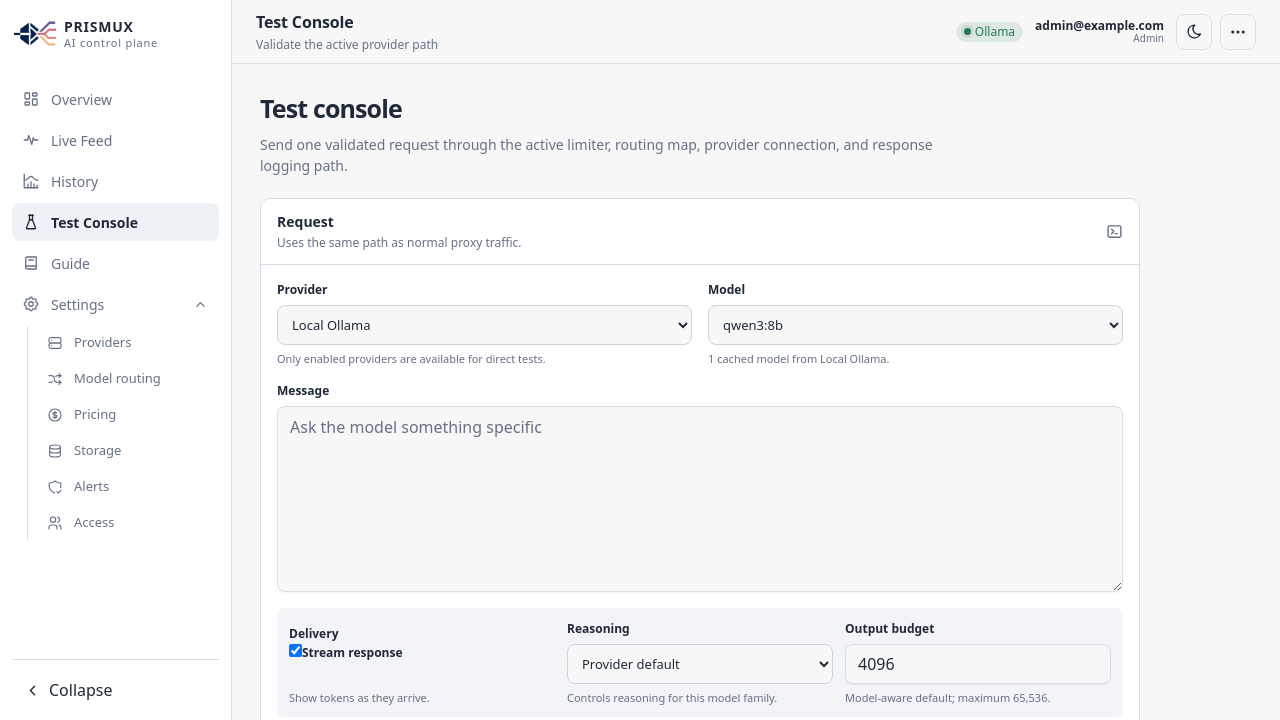
Test: dashboard application › shows provider reasoning when no final content was returned
Expected: the dropdown labelled "Provider" is shown, [277,304,692,344]
Type "Explain the result" into the text box labelled "Message" at (700, 499), box [277,406,1123,592]
(page scrolled)
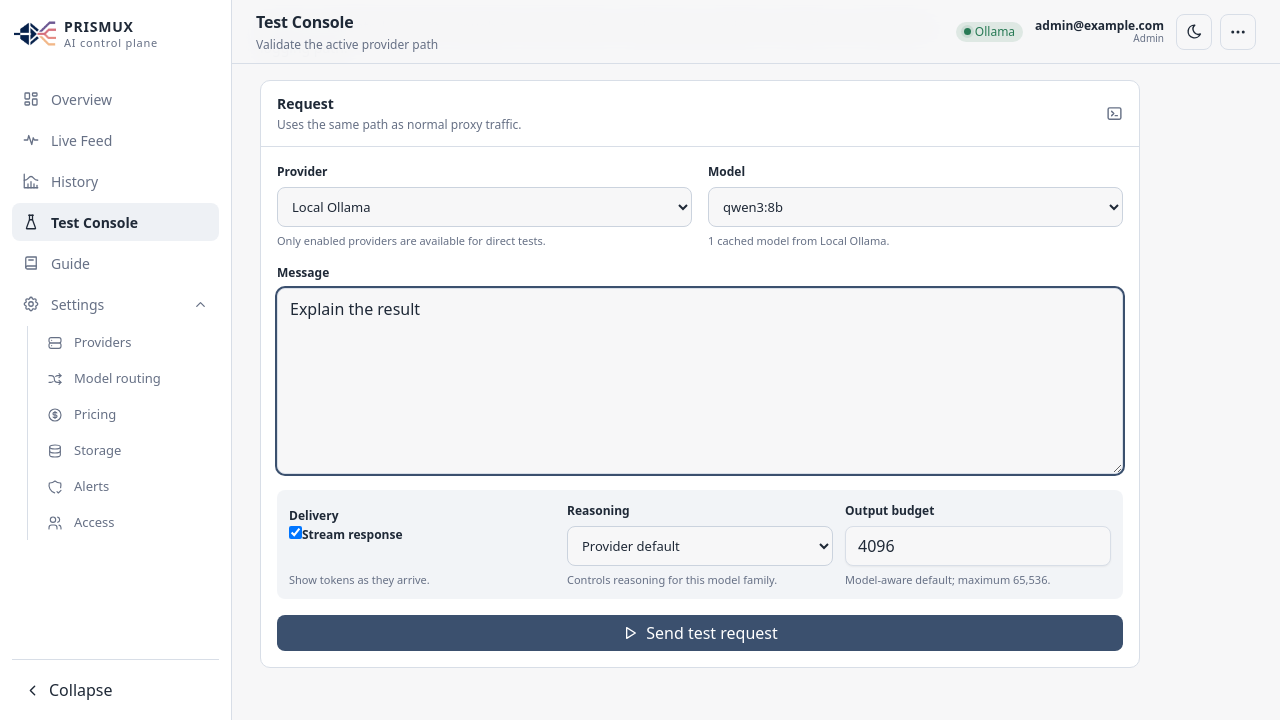
Click the button "Send test request" at (700, 633), box [277,615,1123,651]
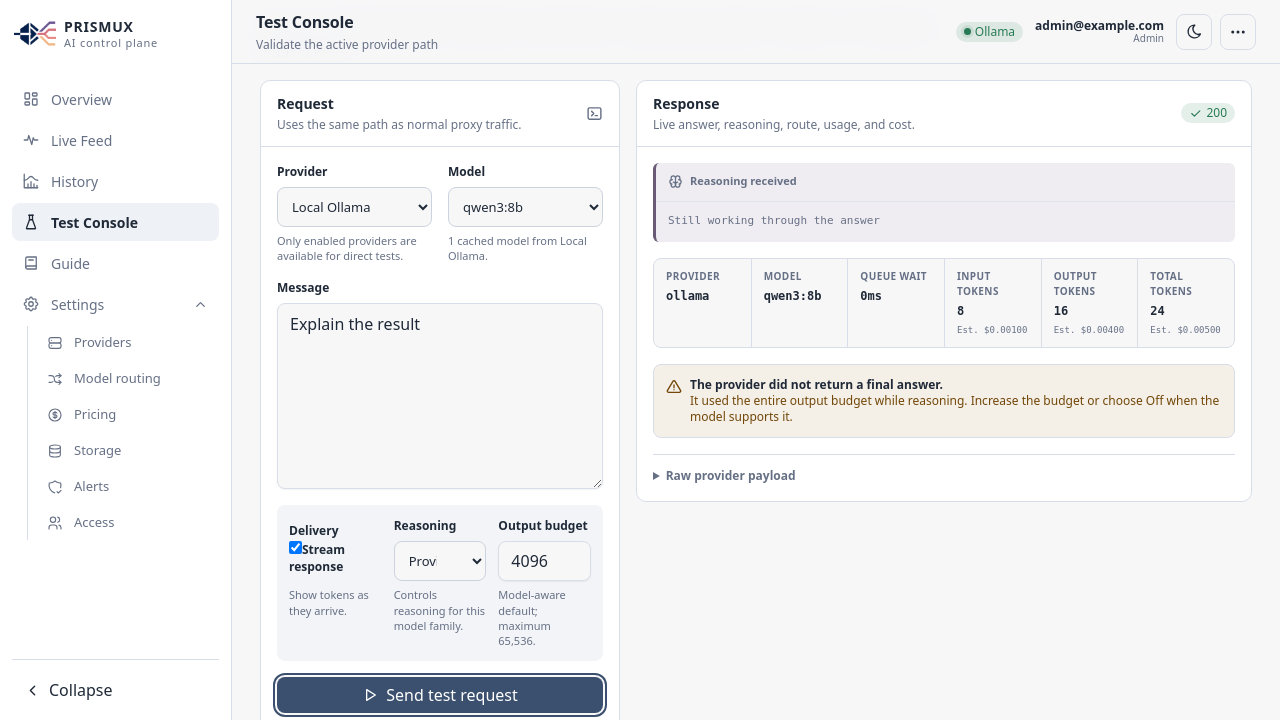
Expected: the text "The provider did not return a final answer." is shown, [690,376,943,393]
Expected: the text "Still working through the answer" is shown, [656,200,1235,242]
Expected: the text "Reasoning received" is shown, [668,173,797,190]
